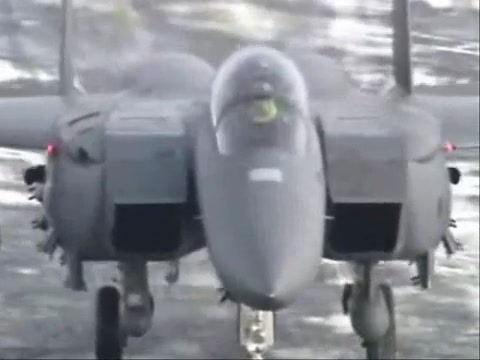aeroplane: (2, 2, 465, 359)
